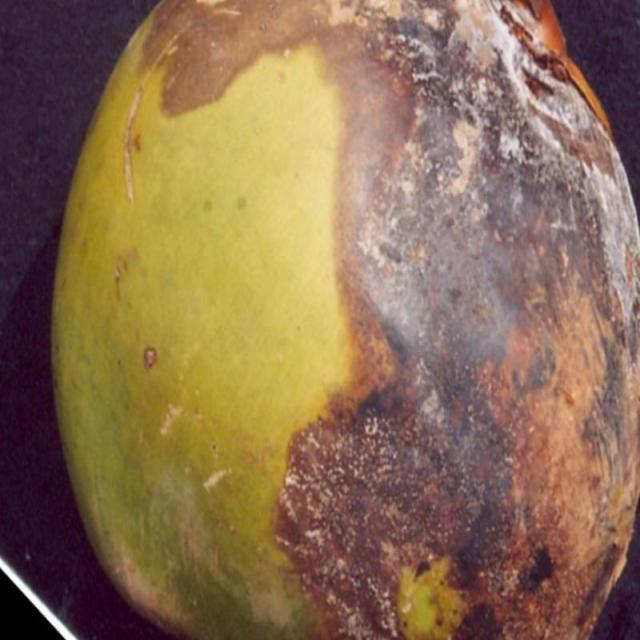damaged: (52, 0, 639, 639)
